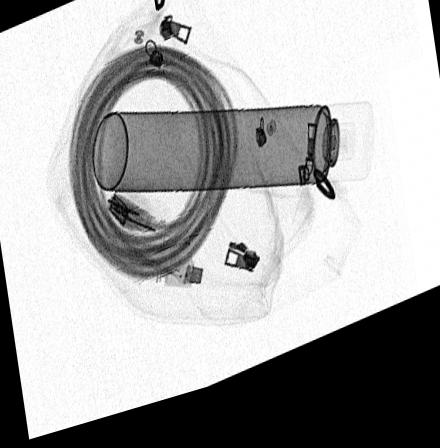Sprayer: (92, 120, 372, 204)
